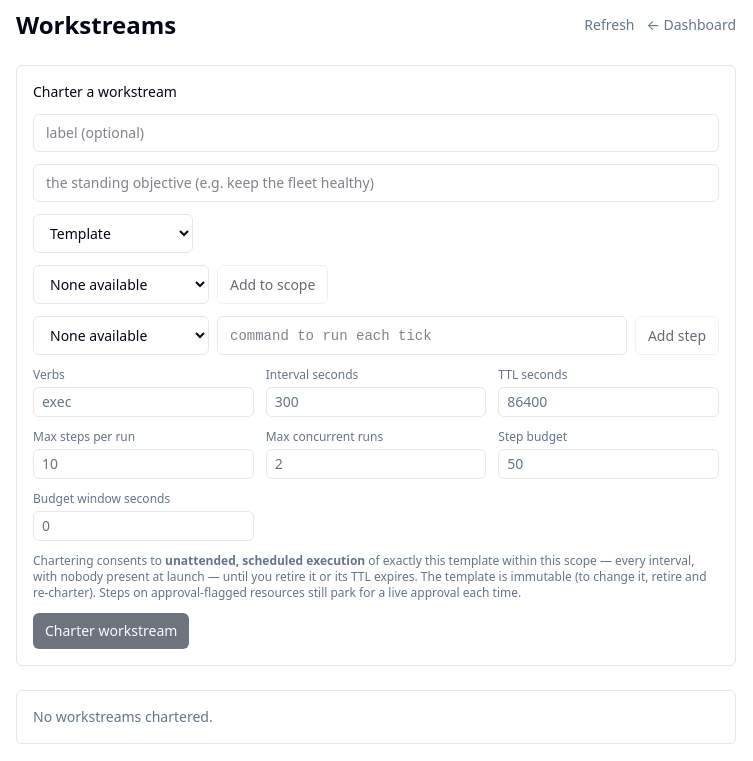
Workstreams route › shows the GOV-10 consent copy for an adaptive charter (parks for review; memory access named)
Select "Adaptive" in the dropdown named "workstream kind" at (113, 234), box [33,214,193,253]
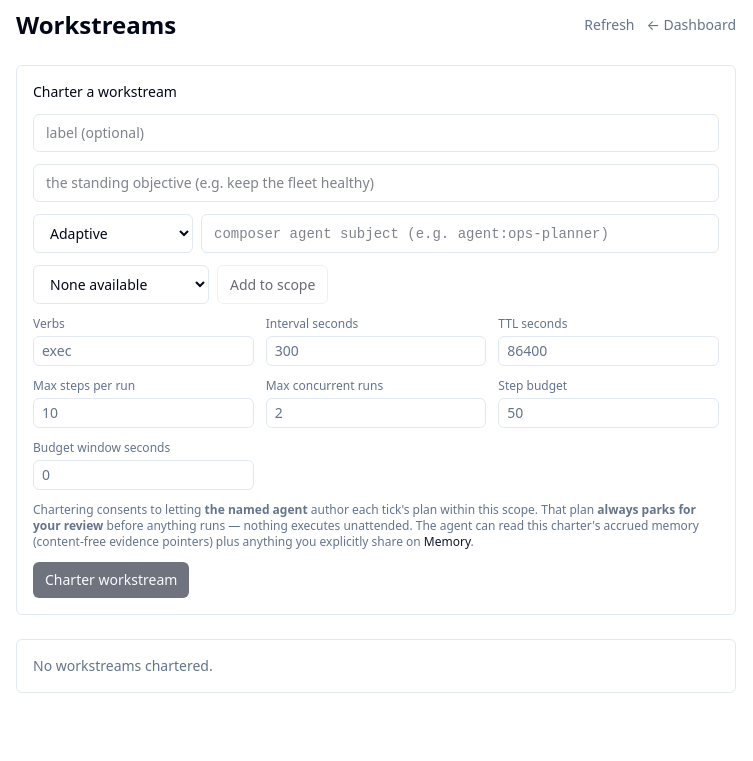
Check: the text "always parks for your review" is shown, box [33,501,696,534]
Check: the text "accrued memory" is shown, box [33,517,699,550]
